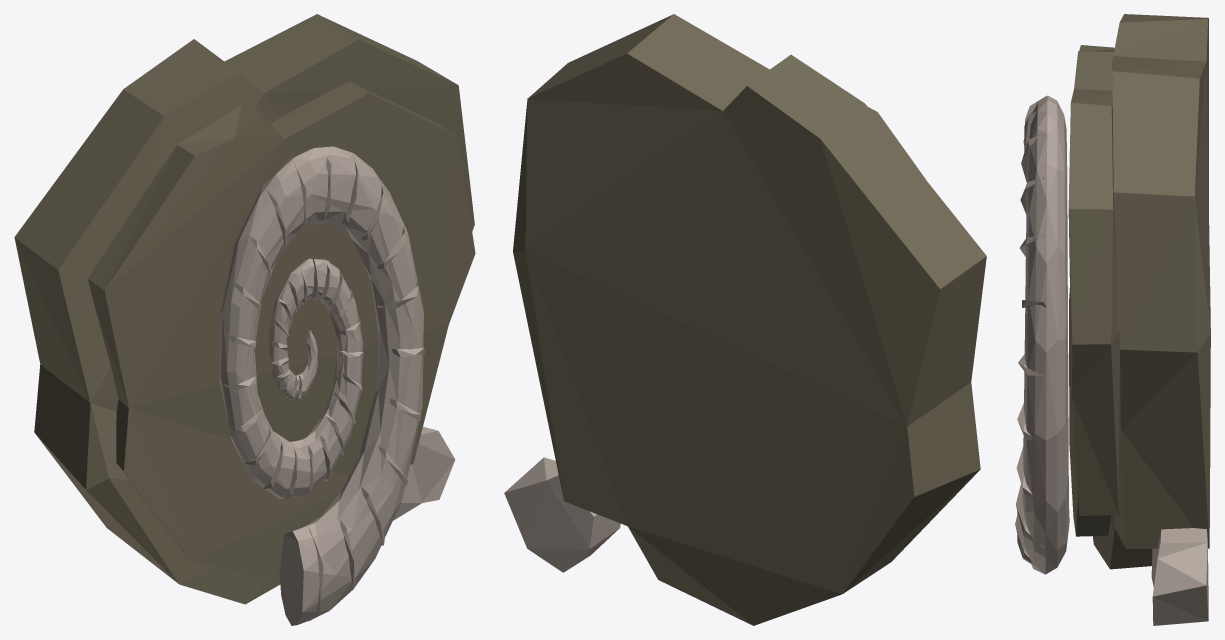
The model's file is SPENT_FERNSTONE.lo.glb.
3 views of the same model, side by side, from view 1: azimuth 30°, elevation 25°; view 2: azimuth 150°, elevation 25°; view 3: azimuth 270°, elevation 25° (orthographic). The views are drawn at different scales.
Parts seen in each view (by area): view 1: Body_Mesh; view 2: Body_Mesh; view 3: Body_Mesh.
Part boxes in pixels (x1,y1,x2,y2): Body_Mesh: [14, 14, 475, 625]; Body_Mesh: [504, 14, 986, 625]; Body_Mesh: [1015, 14, 1210, 625].
Size of the model in its own units: 0.2761 by 0.338 by 0.1104.
Materials: 1 (1 with a texture image).
